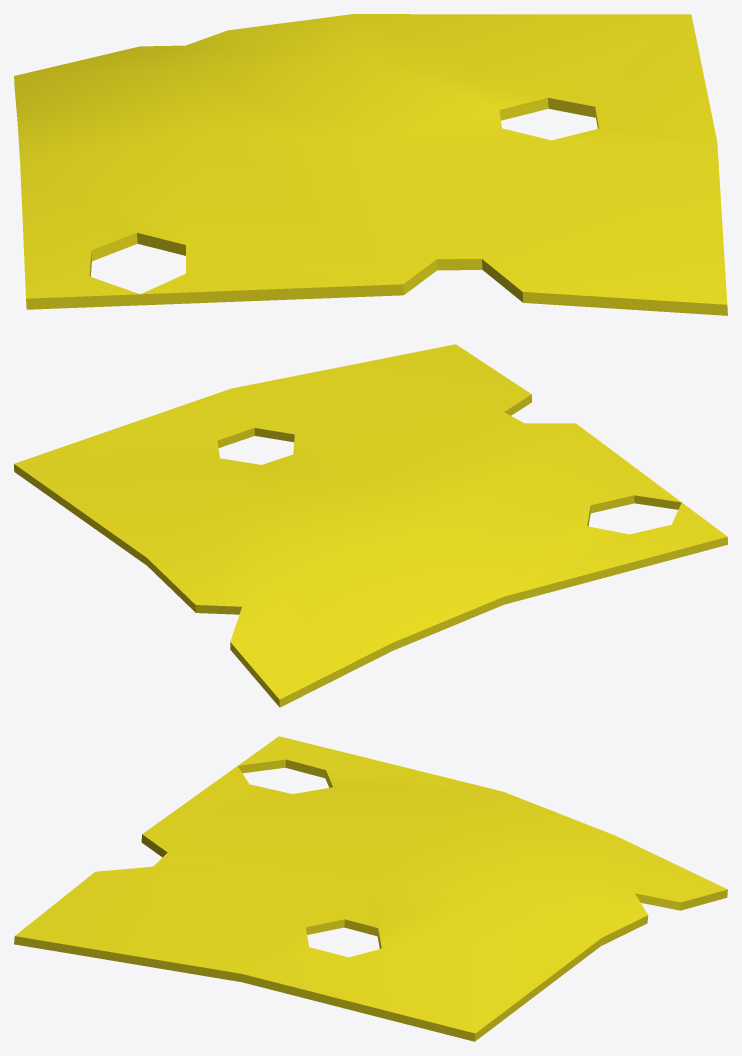
Rendered from сыр.fbx.
3 views of the same model, one above another, from view 1: azimuth 30°, elevation 25°; view 2: azimuth 150°, elevation 25°; view 3: azimuth 270°, elevation 25° (orthographic). The views are drawn at different scales.
Parts seen in each view (by area): view 1: сыр; view 2: сыр; view 3: сыр.
Part boxes in pixels (x1,y1,x2,y2): сыр: (14,14,727,315); сыр: (14,344,727,707); сыр: (14,736,727,1041).
Size of the model in its own units: 22.61 by 2.71 by 23.21.
